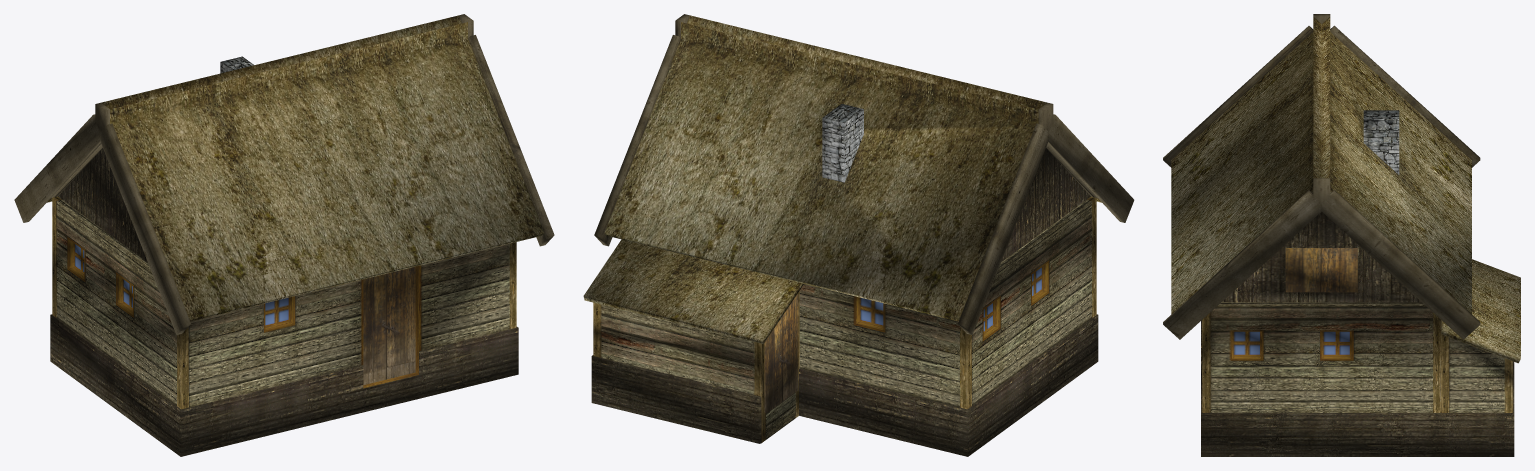
Rendered from oldhut.obj.
3 views of the same model, side by side, from view 1: azimuth 30°, elevation 25°; view 2: azimuth 150°, elevation 25°; view 3: azimuth 270°, elevation 25° (orthographic). The views are drawn at different scales.
Parts seen in each view (by area): view 1: Default; view 2: Default; view 3: Default.
Boxes of the visible parts, bbox=[...] form: Default: bbox=[14, 14, 554, 456]; Default: bbox=[583, 14, 1134, 456]; Default: bbox=[1163, 14, 1520, 456].
Size of the model in its own units: 6.6 by 5.22 by 5.98.
Materials: 1 (1 with a texture image).
